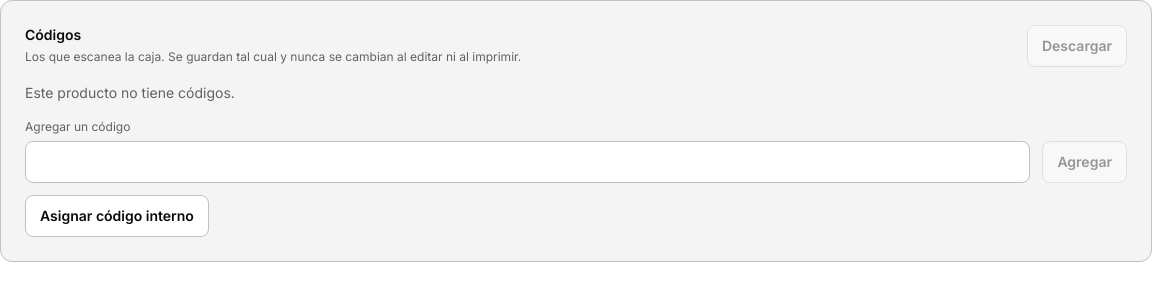
quién puede cambiar algo › asigna un código interno sólo a un producto sin ninguno, y lo pide al servidor
Step 1. Click the button "Asignar código interno" → click(117, 216), box [25,195,209,237]
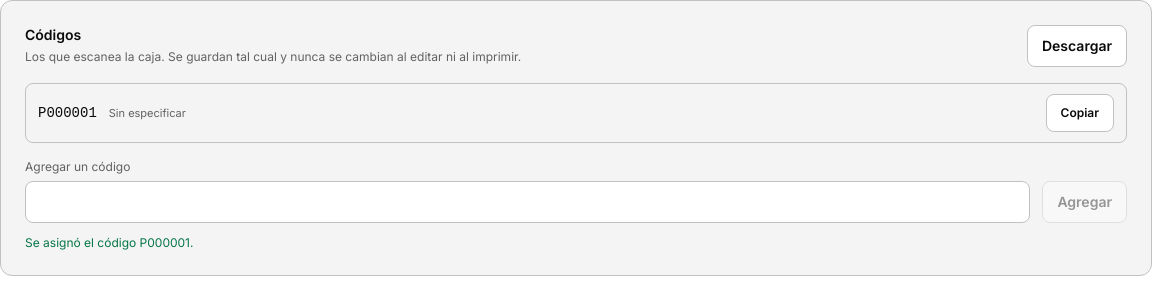
Check: the text "P000001" is shown, box [38,103,97,123]
Check: the button "Asignar código interno" is gone
